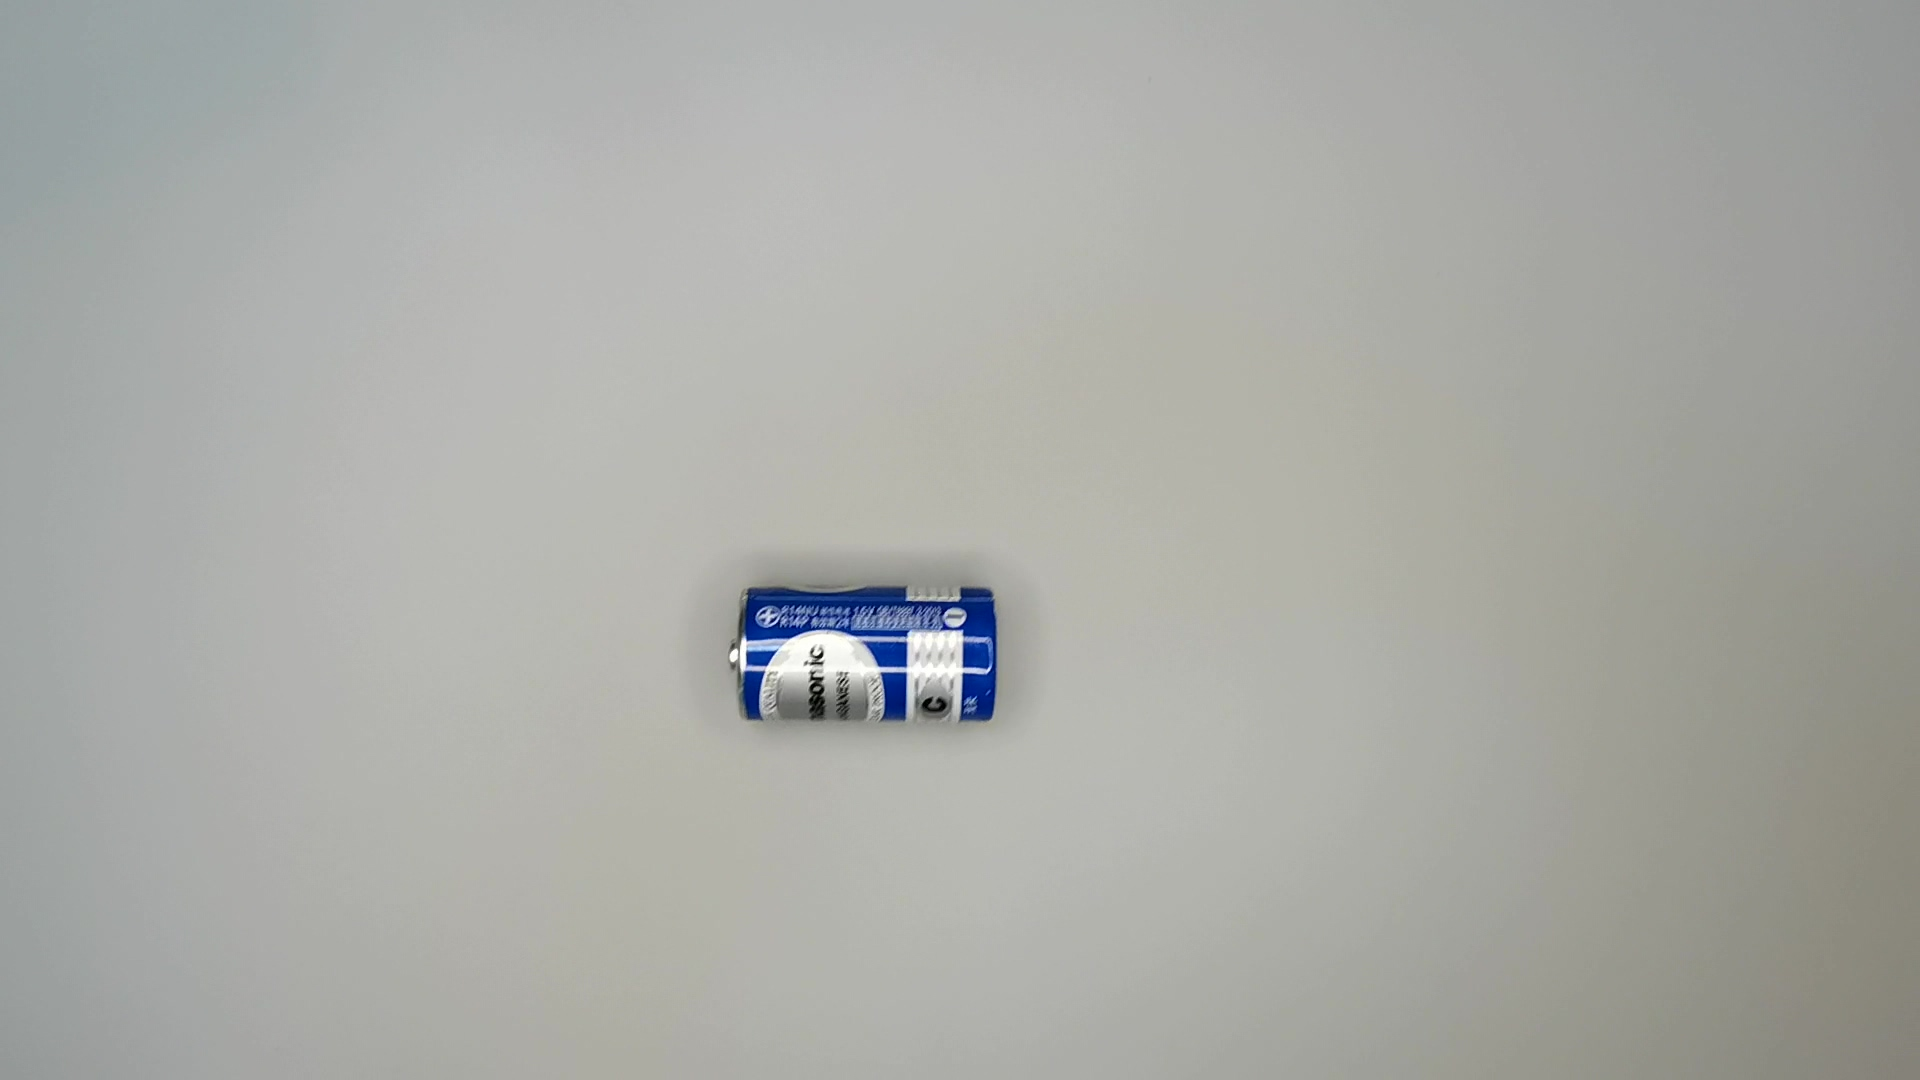battery: (727, 578, 1010, 732)
